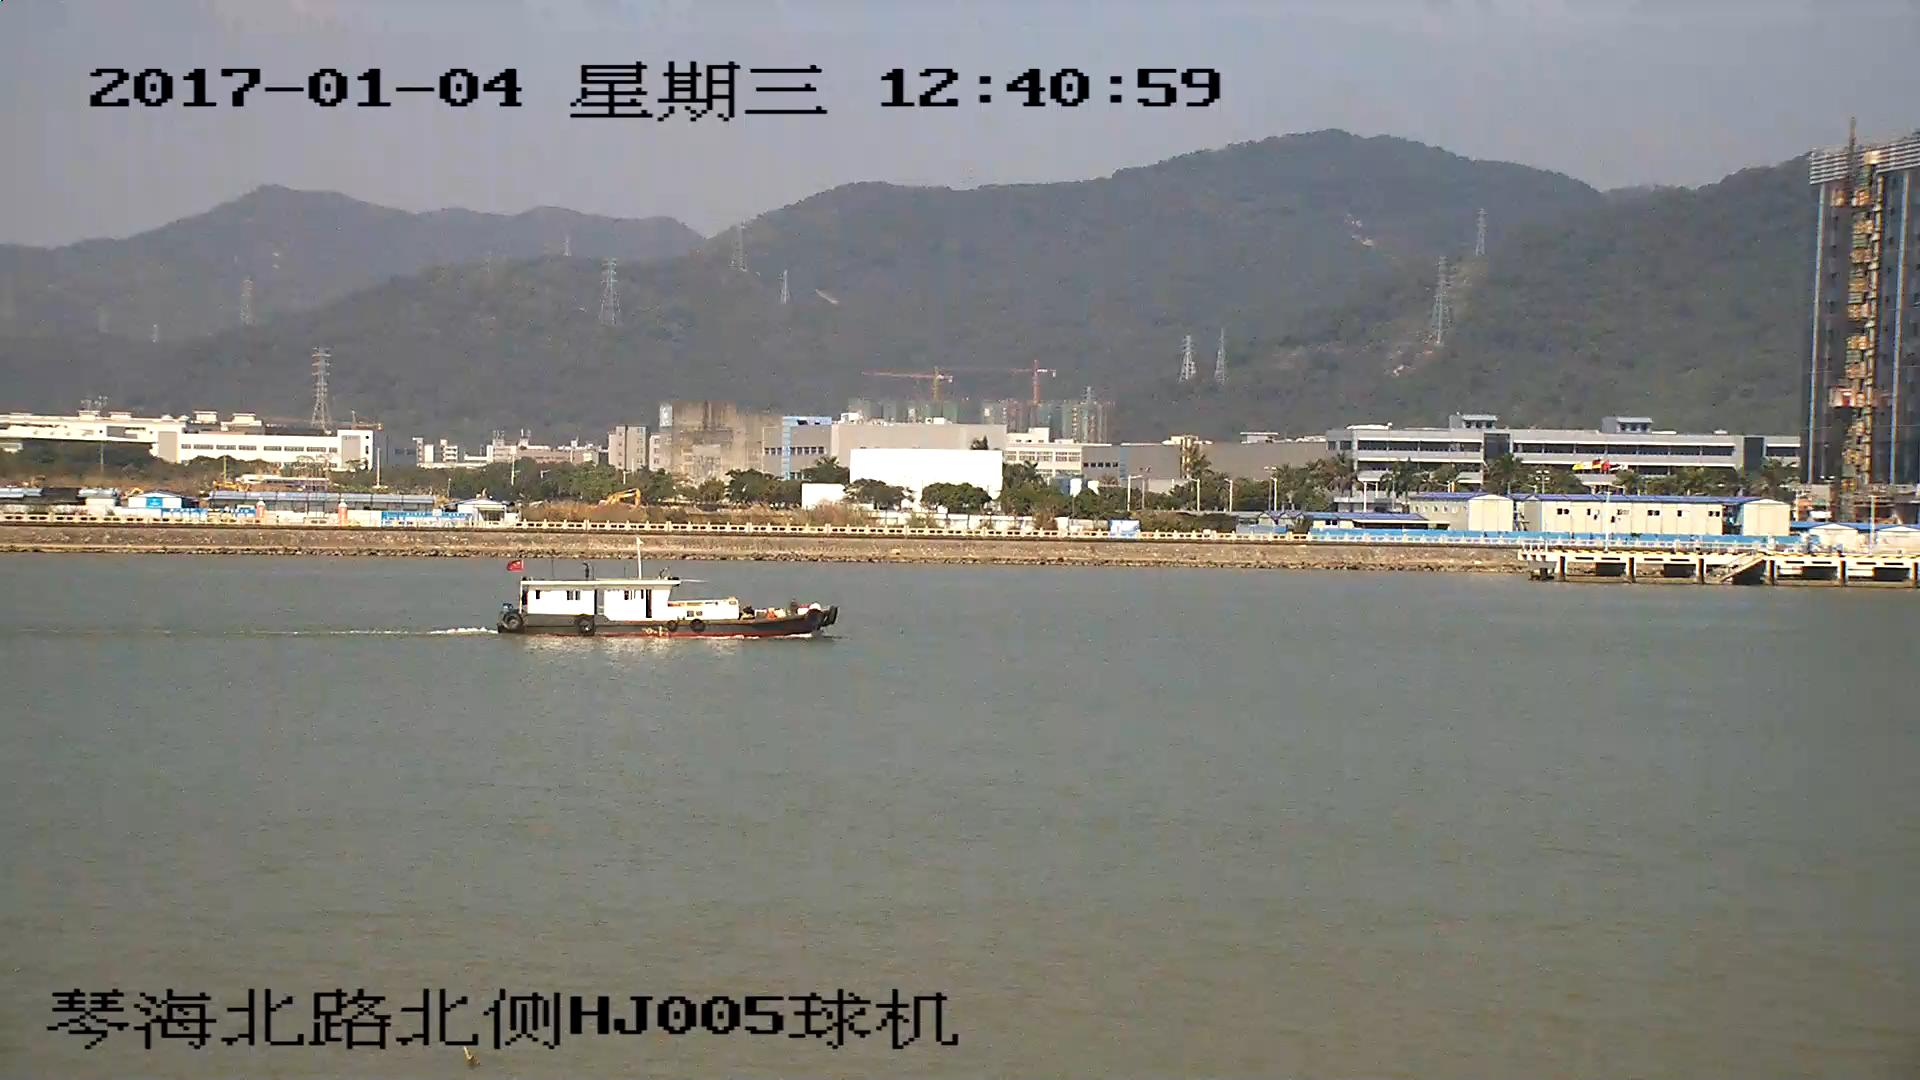fishing boat: (501, 568, 838, 640)
